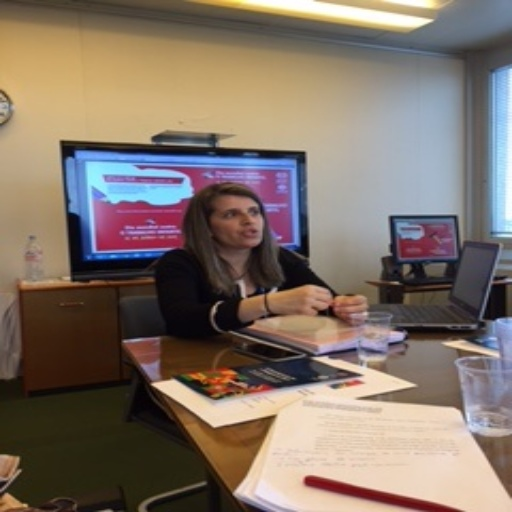hand: (328, 294, 366, 326), (283, 284, 322, 313)
